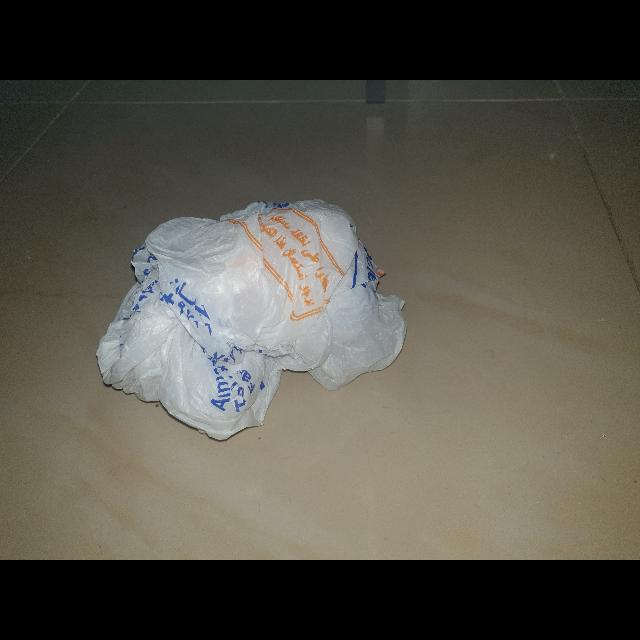plastic_bag: (80, 191, 416, 449)
